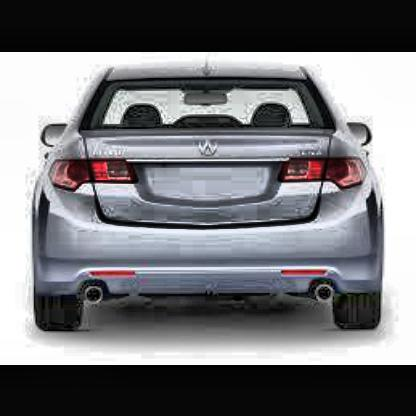Acura TSX Sedan 2012: (34, 63, 385, 331)
